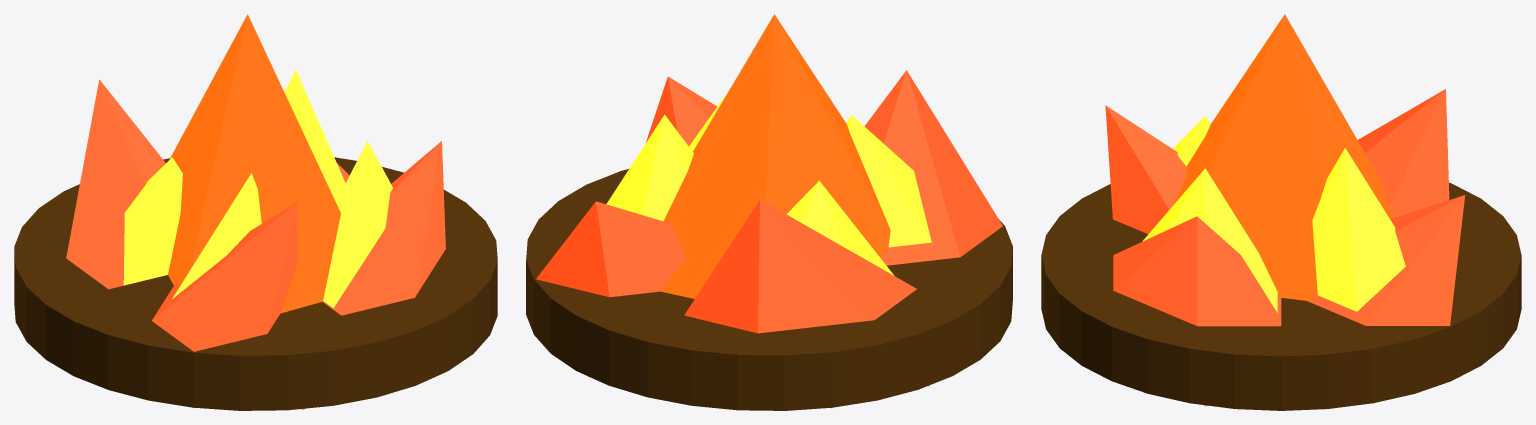
The model's file is fire.fbx.
3 renders of one model, left to right at view 1: azimuth 30°, elevation 25°; view 2: azimuth 150°, elevation 25°; view 3: azimuth 270°, elevation 25°, orthographic.
Parts seen in each view (by area): view 1: Cube; view 2: Cube; view 3: Cube.
Part boxes in pixels (box(x1,y1,x2,y2)): Cube: box(14, 14, 497, 410); Cube: box(526, 14, 1012, 410); Cube: box(1041, 14, 1521, 410).
Bounding box in the file's own units: 65.78 × 44.41 × 65.78.
